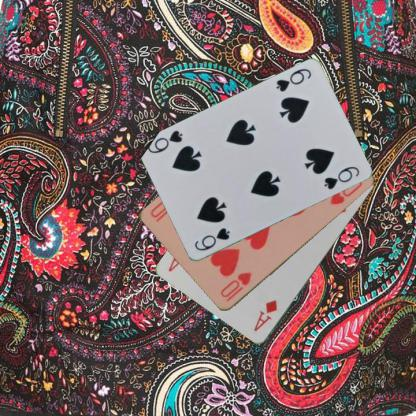10h: (218, 270, 253, 303)
6s: (273, 66, 313, 93), (192, 225, 231, 252)
Ad: (251, 297, 278, 333)
